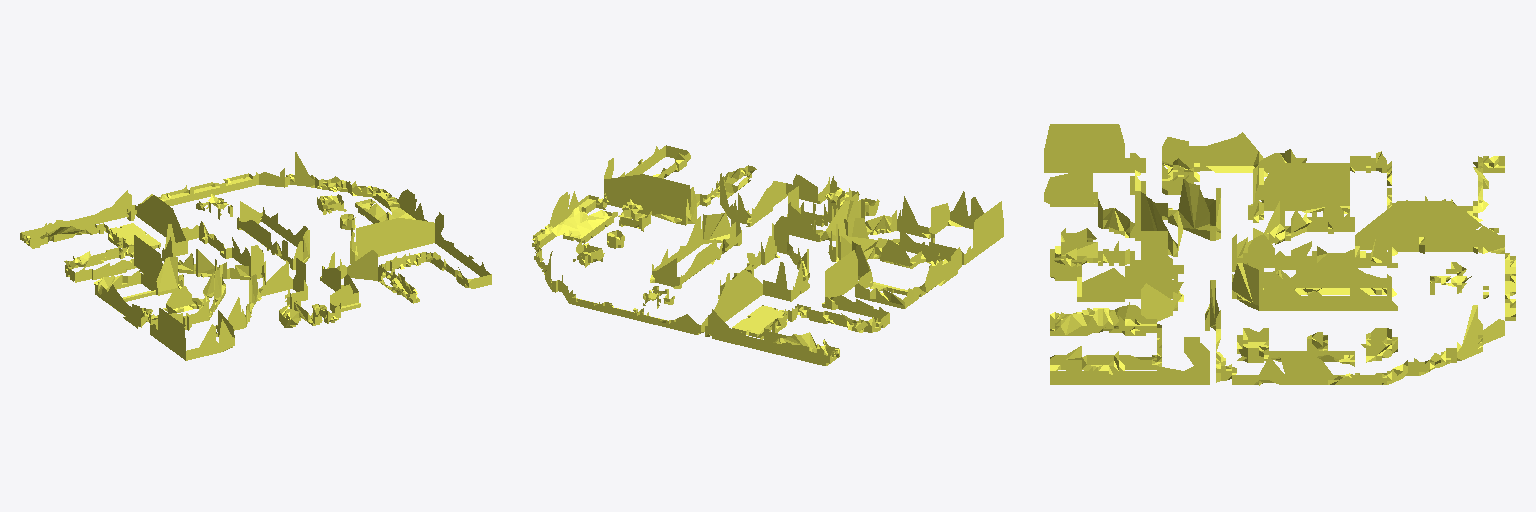
robot.urdf — env.urdf:
<?xml version="0.0" ?>
<robot name="env.urdf">
  <link name="baseLink">
    <contact>
      <lateral_friction value="1.0"/>
      <rolling_friction value="0.0"/>
      <contact_cfm value="0.0"/>
      <contact_erp value="1.0"/>
    </contact>
    <inertial>
      <origin rpy="0 0 0" xyz="0.0 0.02 0.0"/>
       <mass value="0"/>
       <inertia ixx="1" ixy="0" ixz="0" iyy="1" iyz="0" izz="1"/>
    </inertial>
    <visual>
      <origin rpy="0 0 0" xyz="0 0 0"/>
      <geometry>
        <mesh filename="mesh_z_up_cut.obj" scale="1 1 1"/>
      </geometry>
       <material name="yellow">
        <color rgba="1 1 0.4 1"/>
      </material>
    </visual>
    <collision>
      <origin rpy="0 0 0" xyz="0 0 0"/>
      <geometry>
	 	<mesh filename="mesh_z_up_cut.obj" scale="1 1 1"/>
      </geometry>
    </collision>
  </link>
</robot>

--- What the picture shows (computed from the rendered views, not written in the file) ---
The picture shows the robot from 3 angles, left to right: view 1: azimuth 30°, elevation 25°; view 2: azimuth 150°, elevation 25°; view 3: azimuth 270°, elevation 25°; orthographic projection.
Model env.urdf with 1 links and 0 joints (none), rooted at baseLink, posed every joint at zero.
Visible links, largest first — view 1: baseLink; view 2: baseLink; view 3: baseLink.
Boxes of the visible links, x1,y1,x2,y2 form: baseLink: [20, 152, 491, 360]; baseLink: [532, 145, 1003, 365]; baseLink: [1044, 124, 1515, 385].
Size in the robot's own frame: 9.7 by 8.8 by 1 metres.
Meshes: 1 distinct files referenced, 1 mesh visuals loaded (1 OBJ).